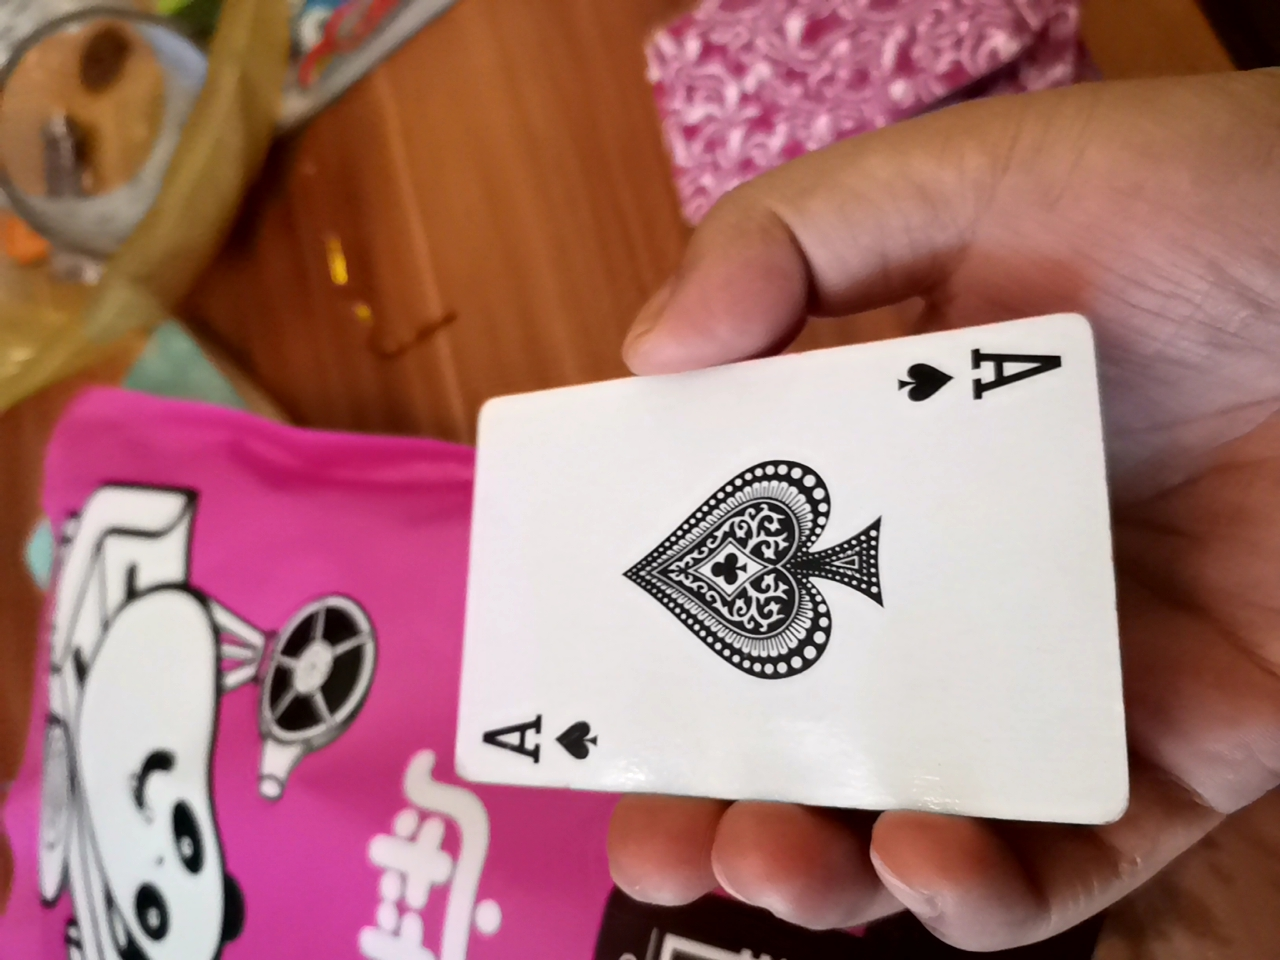ht a: (442, 314, 1147, 838)
